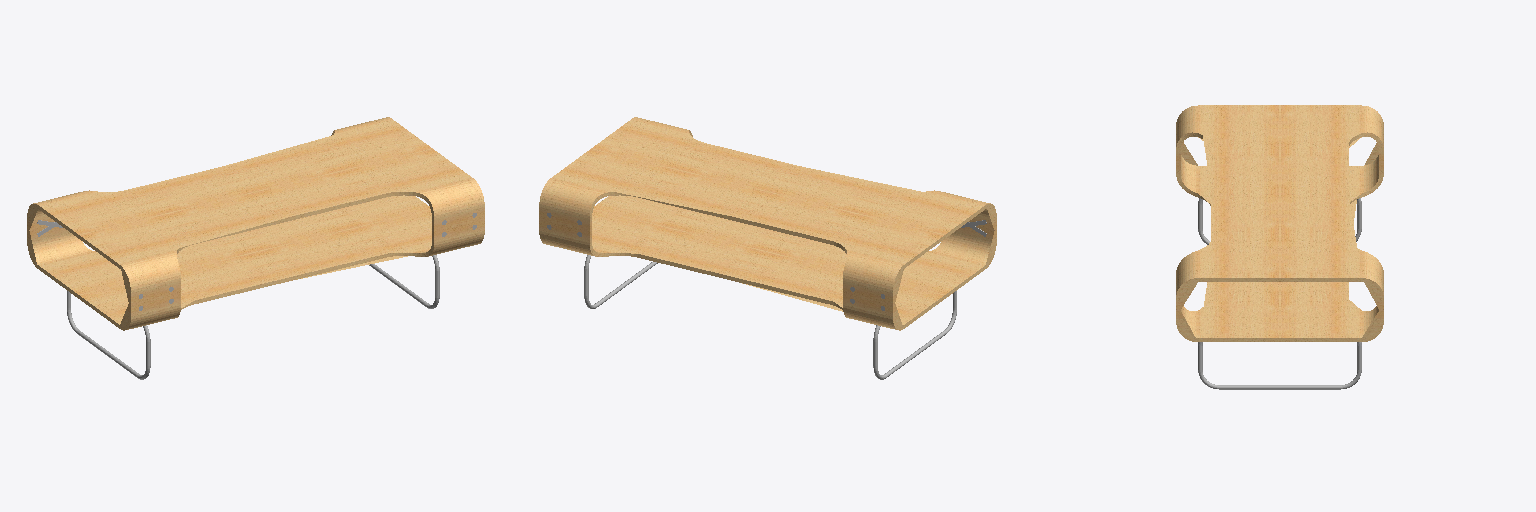
The picture shows the model from 3 angles: view 1: azimuth 30°, elevation 25°; view 2: azimuth 150°, elevation 25°; view 3: azimuth 270°, elevation 25°; orthographic projection.
Visible parts, largest first — view 1: Mesh4 Buskbo1_3 Component_36_2 Group1 BUSKBO_coffee_table1 Model, Mesh1 Buskbo1_1 Component_36_1 Group1 BUSKBO_coffee_table1 Model, Mesh2 Buskbo1_2 Component_36_1 Group1 BUSKBO_coffee_table1 Model, Mesh10 Buskbo1_7 Component_36_4 Group1 BUSKBO_coffee_table1 Mode, Mesh7 Buskbo1_5 Component_36_3 Group1 BUSKBO_coffee_table1 Model, Mesh5 Buskbo1_4 Component_36_2 Group1 BUSKBO_coffee_table1 Model, Mesh11 Buskbo1_8 Component_36_4 Group1 BUSKBO_coffee_table1 Mode, Mesh8 Buskbo1_6 Component_36_3 Group1 BUSKBO_coffee_table1 Model, Mesh13 Boskbo_Leg1_1 BUSKBO_coffee_table1 Model, Mesh14 Boskbo_Leg1_2 BUSKBO_coffee_table1 Model; view 2: Mesh10 Buskbo1_7 Component_36_4 Group1 BUSKBO_coffee_table1 Mode, Mesh7 Buskbo1_5 Component_36_3 Group1 BUSKBO_coffee_table1 Model, Mesh8 Buskbo1_6 Component_36_3 Group1 BUSKBO_coffee_table1 Model, Mesh4 Buskbo1_3 Component_36_2 Group1 BUSKBO_coffee_table1 Model, Mesh1 Buskbo1_1 Component_36_1 Group1 BUSKBO_coffee_table1 Model, Mesh11 Buskbo1_8 Component_36_4 Group1 BUSKBO_coffee_table1 Mode, Mesh5 Buskbo1_4 Component_36_2 Group1 BUSKBO_coffee_table1 Model, Mesh2 Buskbo1_2 Component_36_1 Group1 BUSKBO_coffee_table1 Model, Mesh13 Boskbo_Leg1_1 BUSKBO_coffee_table1 Model, Mesh14 Boskbo_Leg1_2 BUSKBO_coffee_table1 Model; view 3: Mesh7 Buskbo1_5 Component_36_3 Group1 BUSKBO_coffee_table1 Model, Mesh1 Buskbo1_1 Component_36_1 Group1 BUSKBO_coffee_table1 Model, Mesh4 Buskbo1_3 Component_36_2 Group1 BUSKBO_coffee_table1 Model, Mesh10 Buskbo1_7 Component_36_4 Group1 BUSKBO_coffee_table1 Mode, Mesh2 Buskbo1_2 Component_36_1 Group1 BUSKBO_coffee_table1 Model, Mesh8 Buskbo1_6 Component_36_3 Group1 BUSKBO_coffee_table1 Model, Mesh11 Buskbo1_8 Component_36_4 Group1 BUSKBO_coffee_table1 Mode, Mesh5 Buskbo1_4 Component_36_2 Group1 BUSKBO_coffee_table1 Model, Mesh14 Boskbo_Leg1_2 BUSKBO_coffee_table1 Model.
Boxes of the visible parts, x1=… form: Mesh4 Buskbo1_3 Component_36_2 Group1 BUSKBO_coffee_table1 Model: x1=79, y1=192, x2=289, y2=304; Mesh1 Buskbo1_1 Component_36_1 Group1 BUSKBO_coffee_table1 Model: x1=257, y1=149, x2=484, y2=230; Mesh2 Buskbo1_2 Component_36_1 Group1 BUSKBO_coffee_table1 Model: x1=257, y1=209, x2=484, y2=280; Mesh10 Buskbo1_7 Component_36_4 Group1 BUSKBO_coffee_table1 Mode: x1=27, y1=167, x2=255, y2=238; Mesh7 Buskbo1_5 Component_36_3 Group1 BUSKBO_coffee_table1 Model: x1=222, y1=117, x2=432, y2=191; Mesh5 Buskbo1_4 Component_36_2 Group1 BUSKBO_coffee_table1 Model: x1=79, y1=252, x2=289, y2=330; Mesh11 Buskbo1_8 Component_36_4 Group1 BUSKBO_coffee_table1 Mode: x1=27, y1=226, x2=254, y2=298; Mesh8 Buskbo1_6 Component_36_3 Group1 BUSKBO_coffee_table1 Model: x1=233, y1=197, x2=429, y2=251; Mesh13 Boskbo_Leg1_1 BUSKBO_coffee_table1 Model: x1=67, y1=291, x2=150, y2=379; Mesh14 Boskbo_Leg1_2 BUSKBO_coffee_table1 Model: x1=369, y1=255, x2=439, y2=308; Mesh10 Buskbo1_7 Component_36_4 Group1 BUSKBO_coffee_table1 Mode: x1=734, y1=192, x2=944, y2=304; Mesh7 Buskbo1_5 Component_36_3 Group1 BUSKBO_coffee_table1 Model: x1=539, y1=149, x2=766, y2=230; Mesh8 Buskbo1_6 Component_36_3 Group1 BUSKBO_coffee_table1 Model: x1=539, y1=209, x2=766, y2=280; Mesh4 Buskbo1_3 Component_36_2 Group1 BUSKBO_coffee_table1 Model: x1=768, y1=167, x2=996, y2=238; Mesh1 Buskbo1_1 Component_36_1 Group1 BUSKBO_coffee_table1 Model: x1=591, y1=117, x2=801, y2=191; Mesh11 Buskbo1_8 Component_36_4 Group1 BUSKBO_coffee_table1 Mode: x1=734, y1=252, x2=944, y2=330; Mesh5 Buskbo1_4 Component_36_2 Group1 BUSKBO_coffee_table1 Model: x1=769, y1=226, x2=996, y2=298; Mesh2 Buskbo1_2 Component_36_1 Group1 BUSKBO_coffee_table1 Model: x1=594, y1=196, x2=790, y2=251; Mesh13 Boskbo_Leg1_1 BUSKBO_coffee_table1 Model: x1=873, y1=291, x2=956, y2=379; Mesh14 Boskbo_Leg1_2 BUSKBO_coffee_table1 Model: x1=584, y1=255, x2=657, y2=308; Mesh7 Buskbo1_5 Component_36_3 Group1 BUSKBO_coffee_table1 Model: x1=1280, y1=192, x2=1383, y2=309; Mesh1 Buskbo1_1 Component_36_1 Group1 BUSKBO_coffee_table1 Model: x1=1176, y1=192, x2=1279, y2=309; Mesh4 Buskbo1_3 Component_36_2 Group1 BUSKBO_coffee_table1 Model: x1=1176, y1=105, x2=1279, y2=191; Mesh10 Buskbo1_7 Component_36_4 Group1 BUSKBO_coffee_table1 Mode: x1=1280, y1=105, x2=1383, y2=191; Mesh2 Buskbo1_2 Component_36_1 Group1 BUSKBO_coffee_table1 Model: x1=1176, y1=282, x2=1279, y2=341; Mesh8 Buskbo1_6 Component_36_3 Group1 BUSKBO_coffee_table1 Model: x1=1280, y1=282, x2=1383, y2=341; Mesh11 Buskbo1_8 Component_36_4 Group1 BUSKBO_coffee_table1 Mode: x1=1349, y1=143, x2=1383, y2=223; Mesh5 Buskbo1_4 Component_36_2 Group1 BUSKBO_coffee_table1 Model: x1=1176, y1=142, x2=1210, y2=205; Mesh14 Boskbo_Leg1_2 BUSKBO_coffee_table1 Model: x1=1198, y1=342, x2=1361, y2=389.
Size of the model in its own units: 46.5 by 16.12 by 23.62.
2 materials, 1 textured.